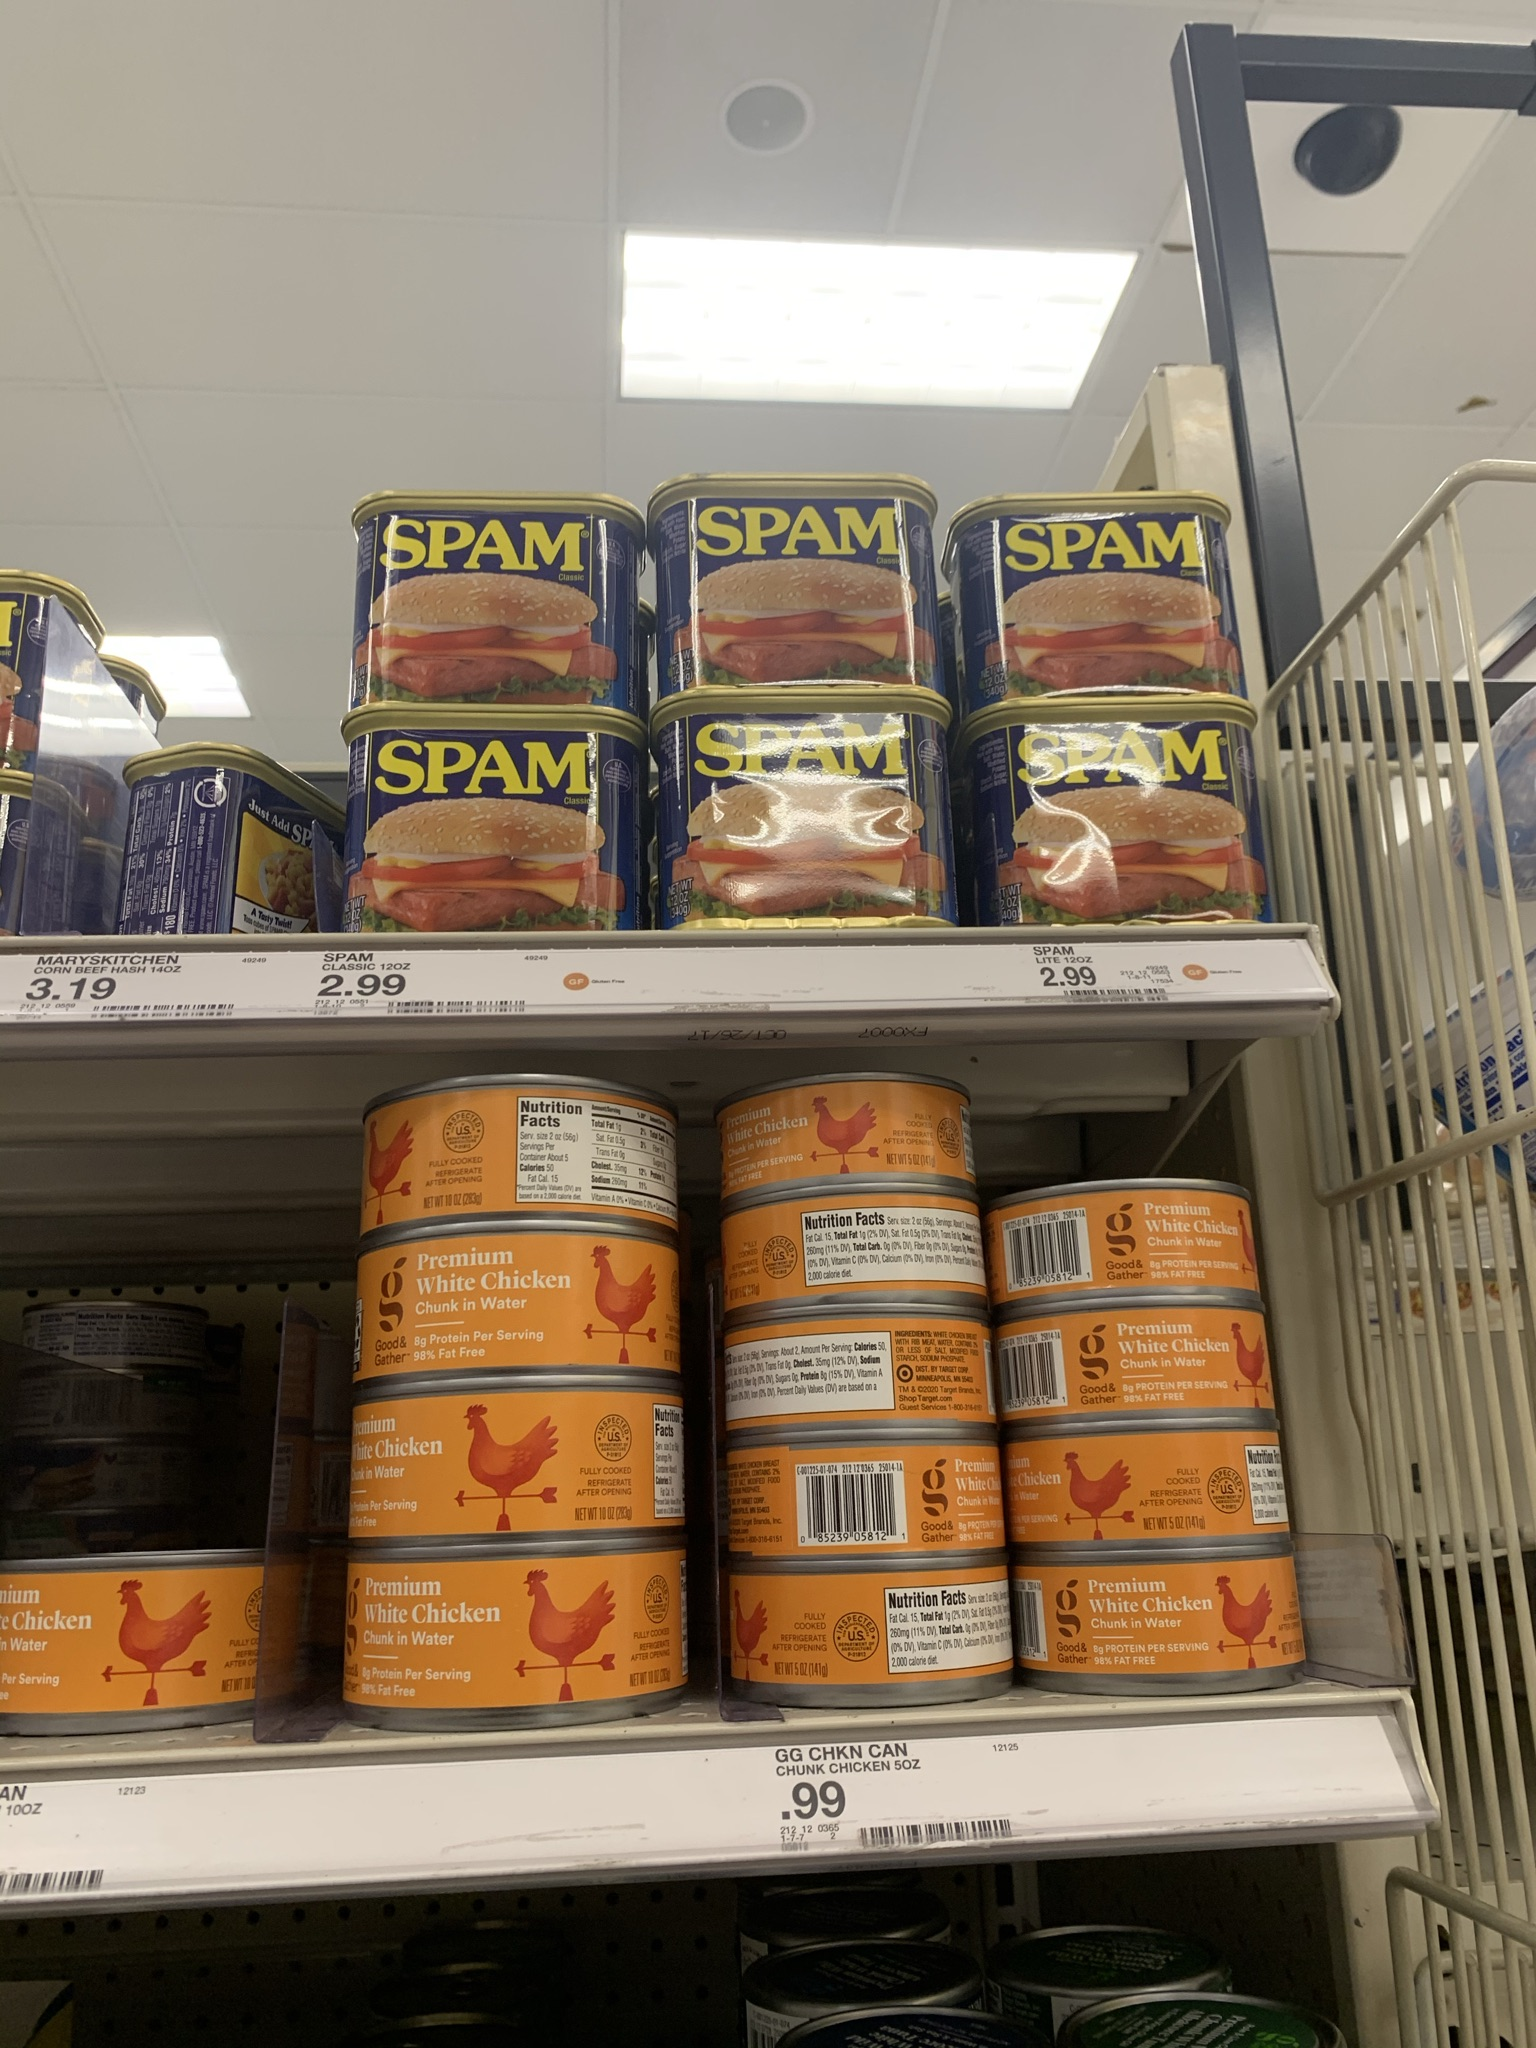can: (682, 714, 931, 926), (1008, 718, 1246, 919), (373, 740, 618, 922), (357, 1561, 679, 1698), (373, 508, 608, 693), (684, 489, 913, 674), (987, 506, 1221, 684), (3, 1561, 260, 1719), (369, 1401, 674, 1532), (374, 1242, 663, 1366), (739, 1574, 1007, 1688), (366, 1105, 652, 1209), (127, 768, 310, 927), (739, 1451, 997, 1558), (1049, 1566, 1292, 1674), (1041, 1442, 1286, 1538), (737, 1332, 997, 1422), (1025, 1321, 1265, 1409), (1013, 1198, 1249, 1288), (737, 1214, 966, 1298), (745, 1098, 954, 1177)
